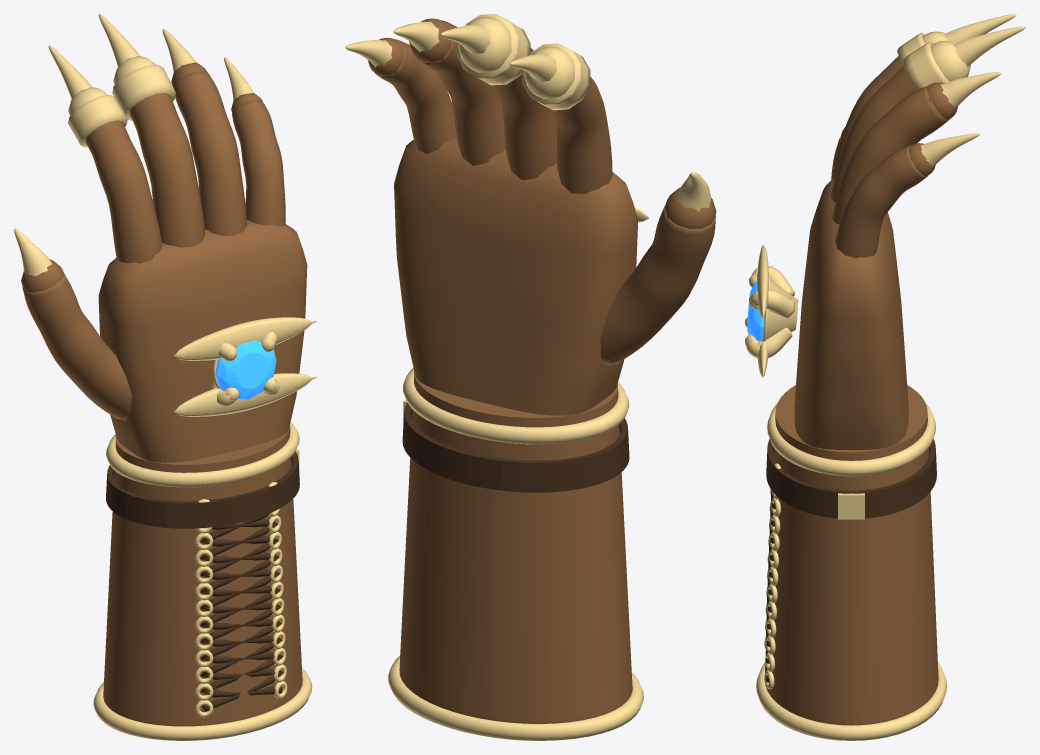
The model's file is gloves_crit_rare.glb.
The picture shows the model from 3 angles, left to right: view 1: azimuth 30°, elevation 25°; view 2: azimuth 150°, elevation 25°; view 3: azimuth 270°, elevation 25°; orthographic projection. The views are drawn at different scales.
Parts seen in each view (by area): view 1: gloves_crit_rare; view 2: gloves_crit_rare; view 3: gloves_crit_rare.
Boxes of the visible parts, left/top/right/bottom form: gloves_crit_rare: left=14, top=14, right=316, bottom=740; gloves_crit_rare: left=345, top=14, right=716, bottom=740; gloves_crit_rare: left=745, top=14, right=1025, bottom=740.
Bounding box in the file's own units: 1.38 × 3.05 × 1.18.
